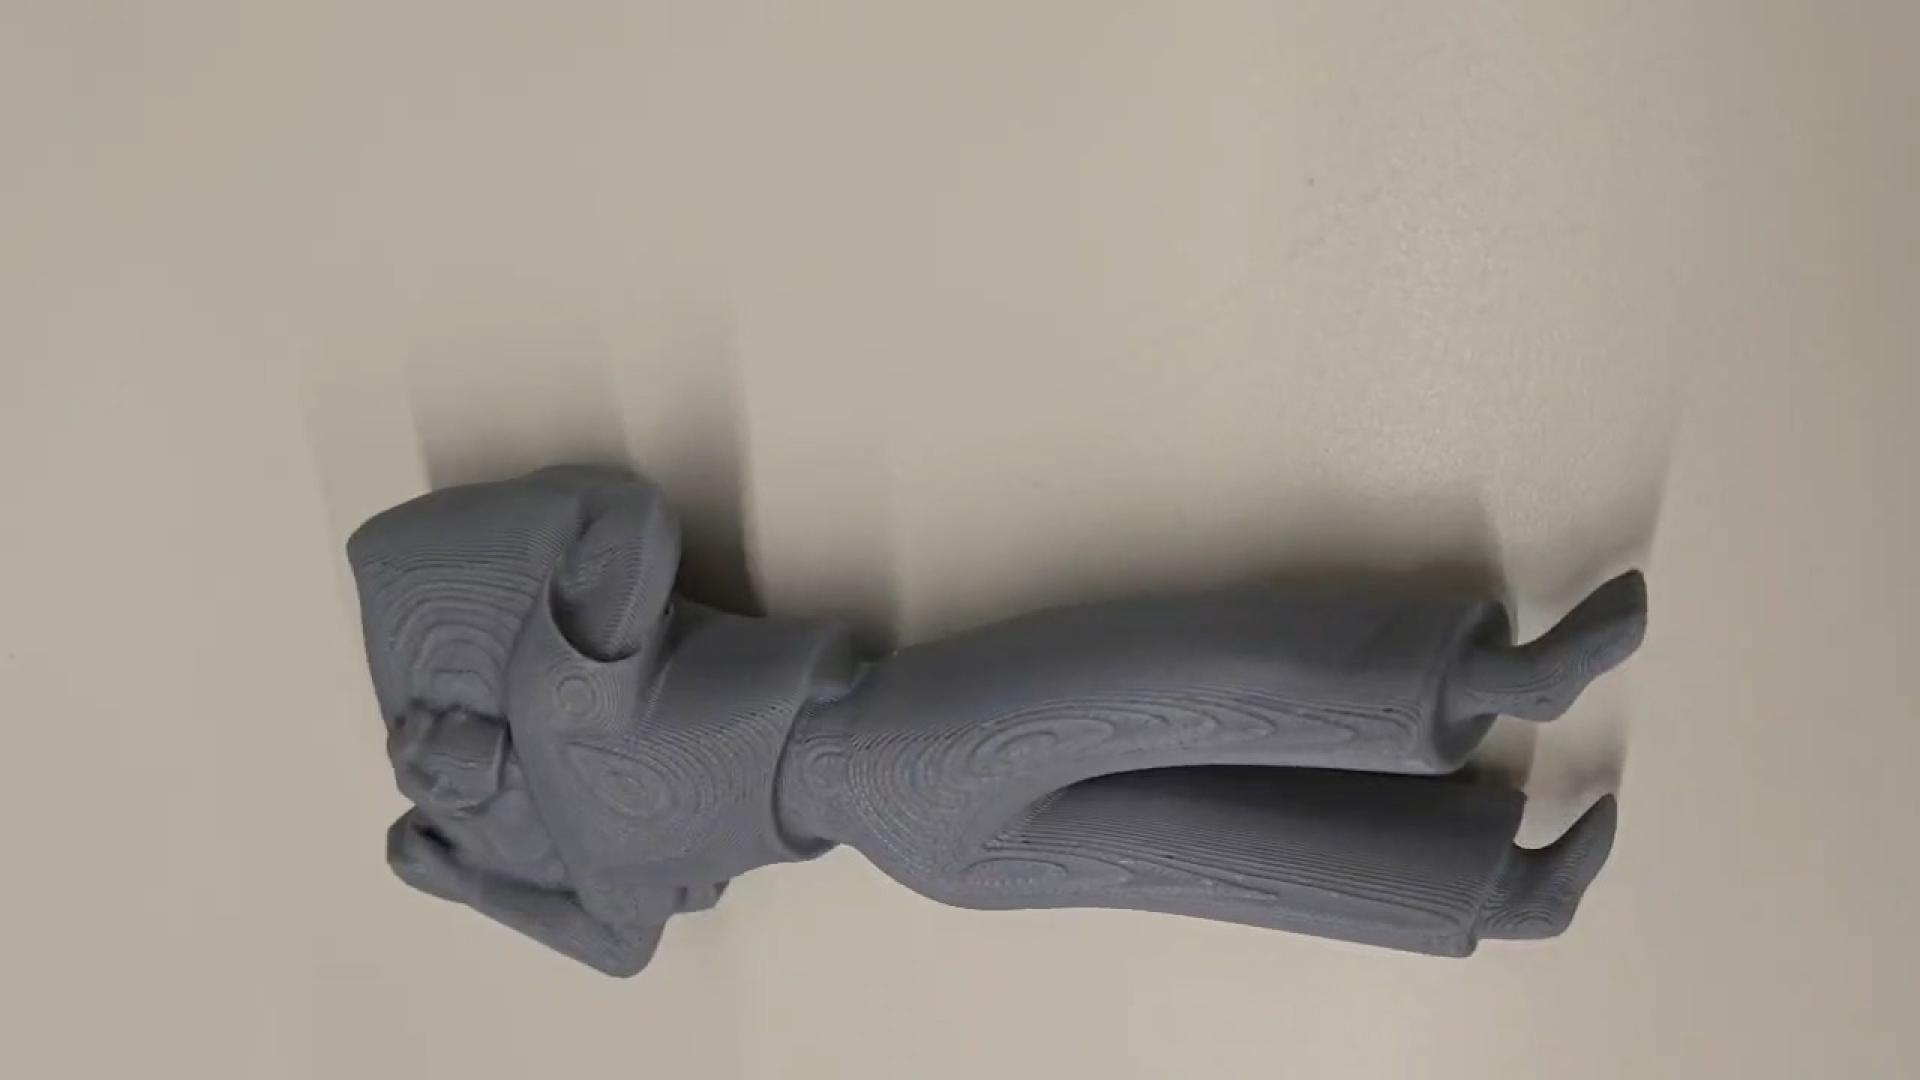Bad-style: (353, 448, 1655, 994)
